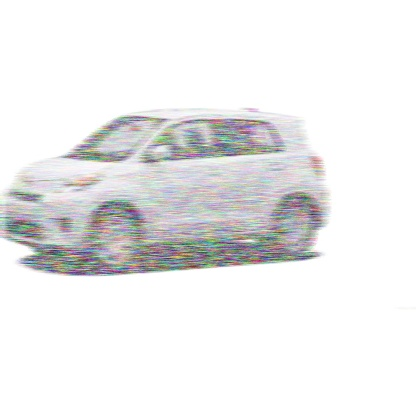Vehicle: (1, 103, 330, 274)
